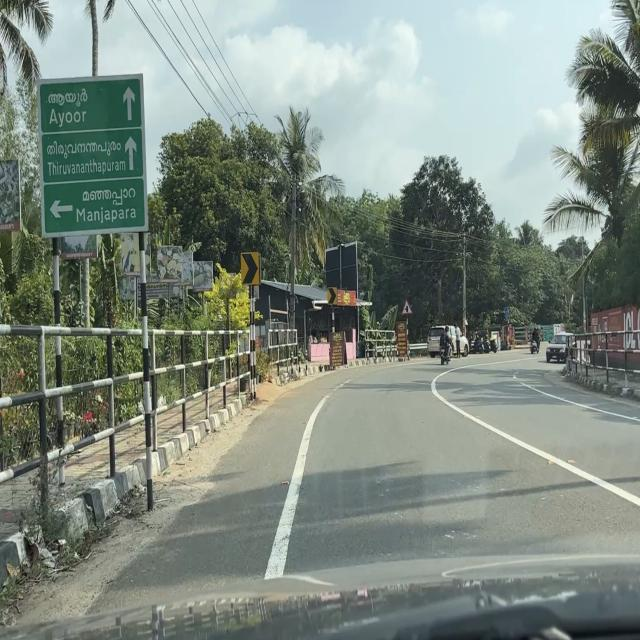GENERAL: (34, 70, 151, 240)
SIDE_ROAD_LEFT: (401, 298, 414, 316)
TURN_RIGHT: (240, 251, 260, 286), (327, 287, 337, 305)
